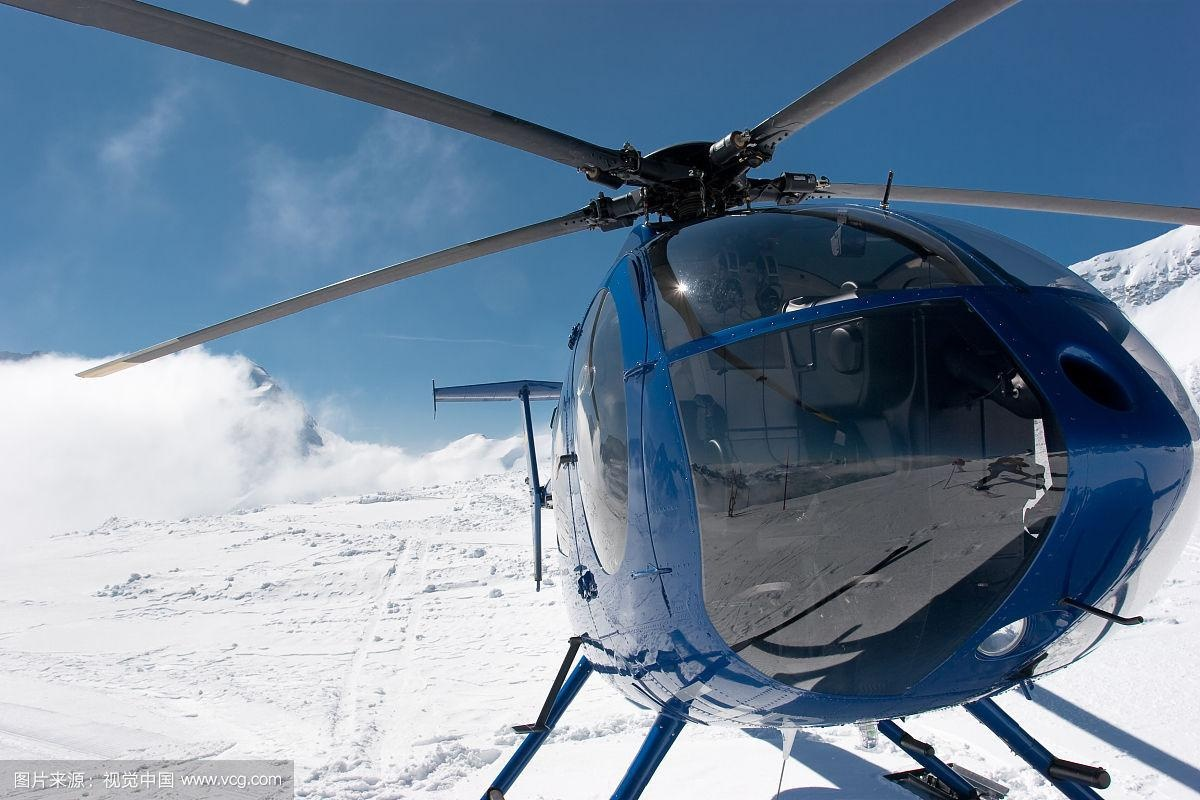airplane: (22, 1, 1200, 753)
